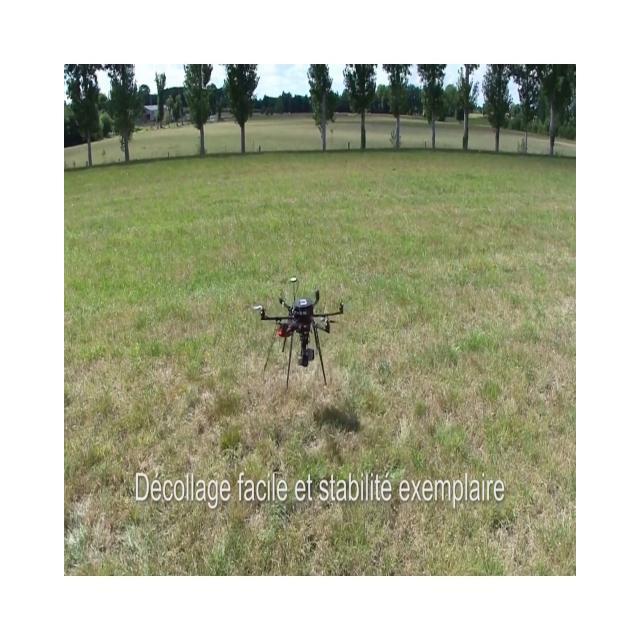drone: (252, 276, 344, 390)
